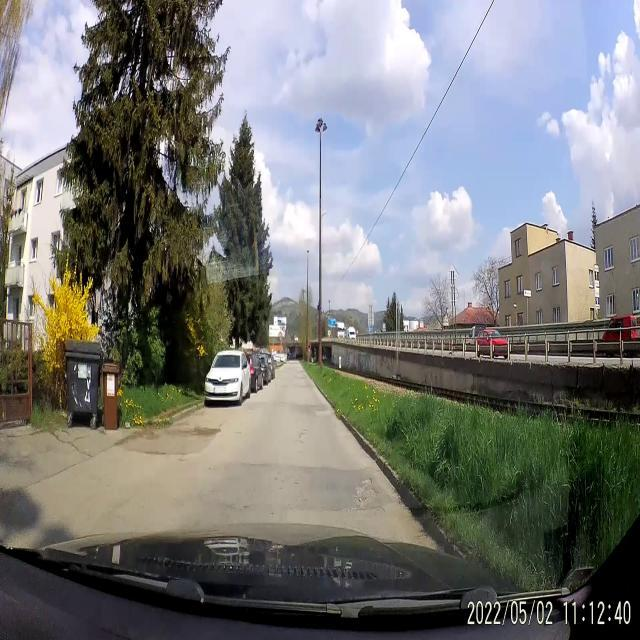Pothole: (350, 471, 378, 514)
